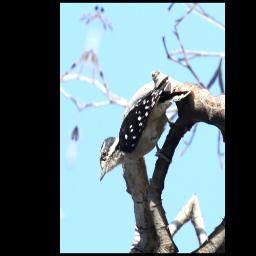Woodpecker: (94, 58, 193, 205)
